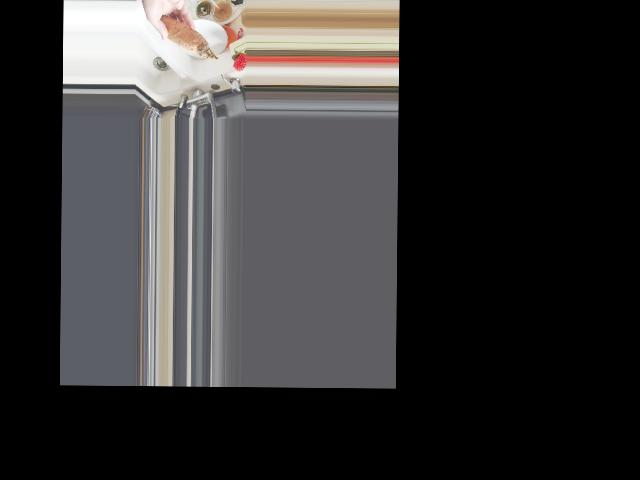sweet_potato: (155, 11, 220, 60)
